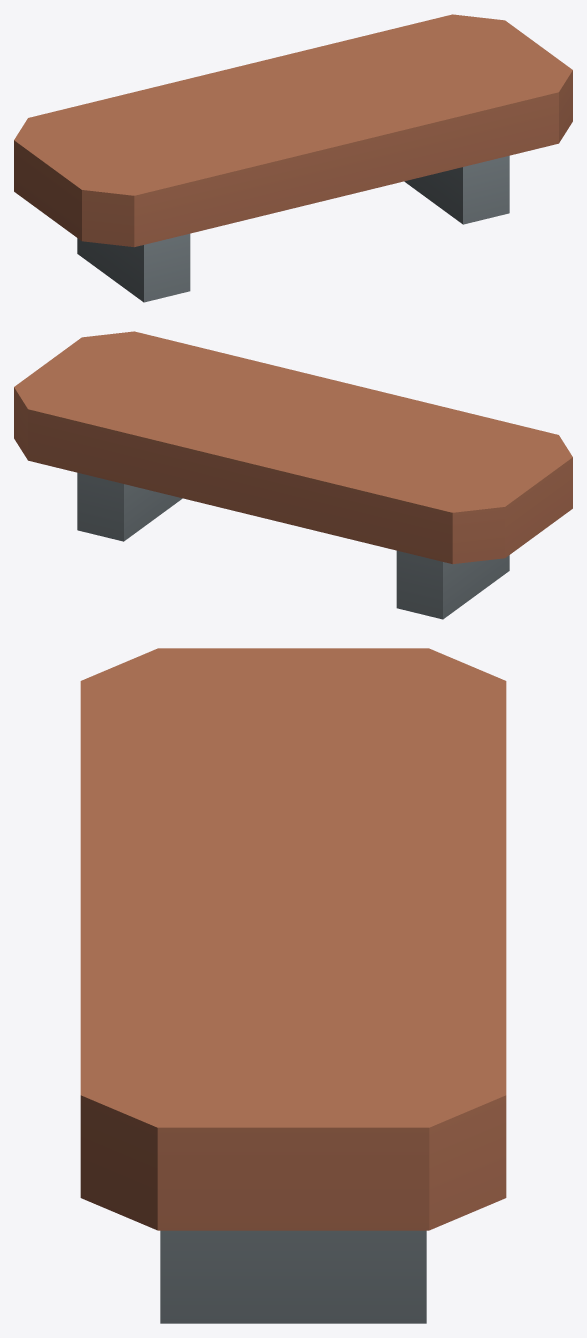
The model's file is bench.obj.
3 renders of one model, top to bottom at view 1: azimuth 30°, elevation 25°; view 2: azimuth 150°, elevation 25°; view 3: azimuth 270°, elevation 25°, orthographic. The views are drawn at different scales.
Bounding box in the file's own units: 0.4 × 0.1 × 0.15.
1 material, 1 textured.
